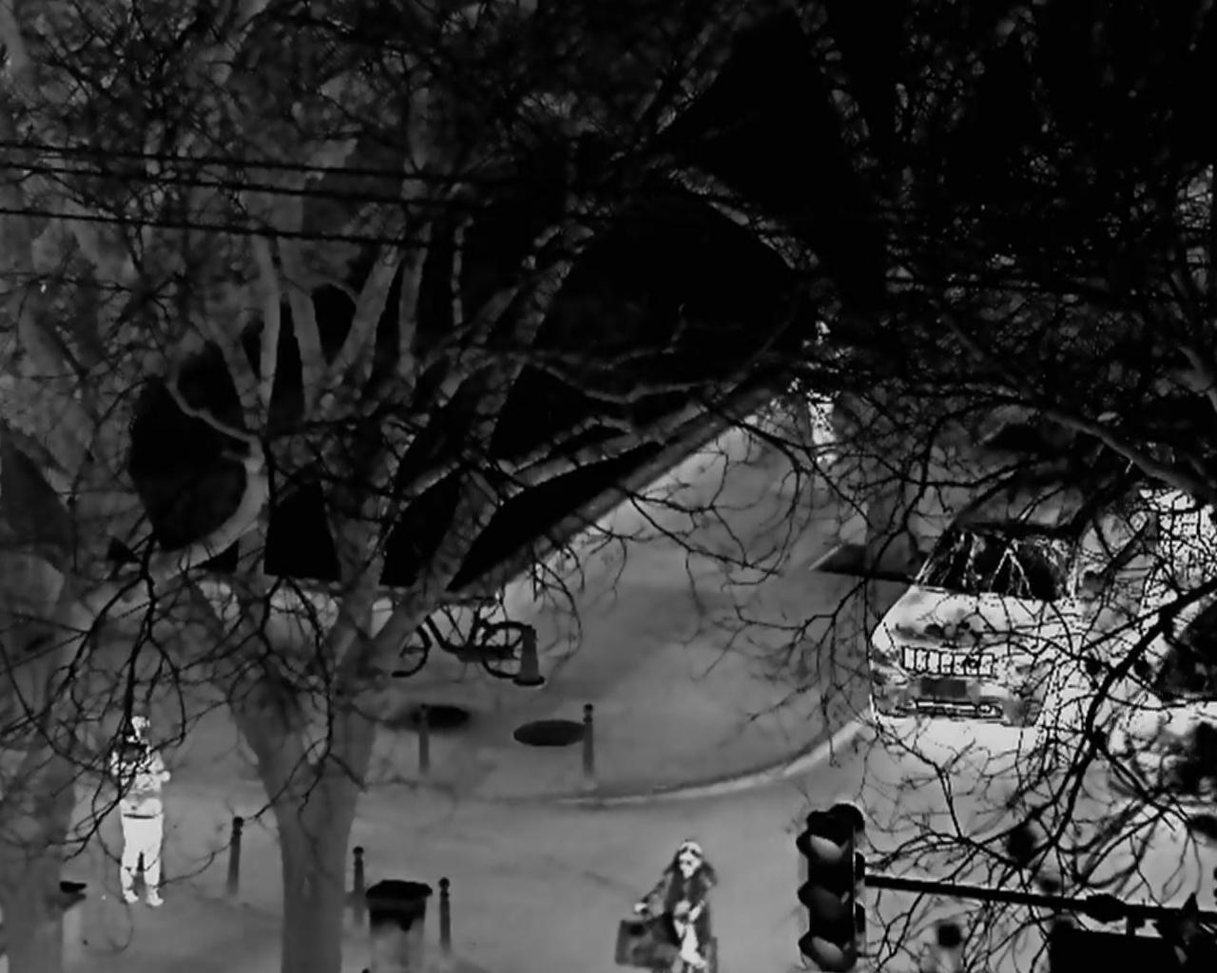person: (107, 714, 173, 909), (634, 840, 723, 973), (787, 374, 842, 468)
